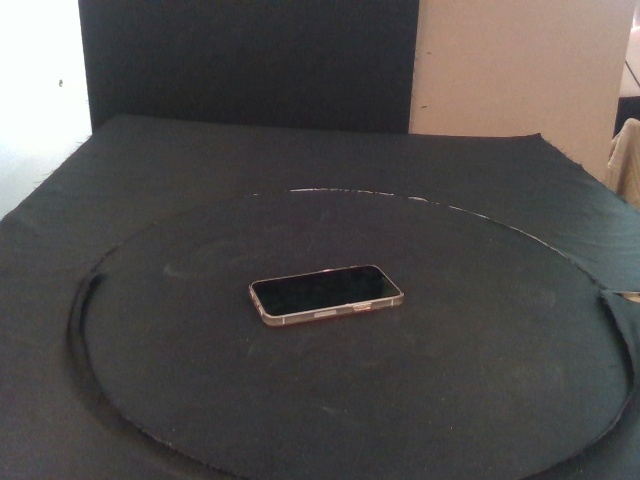phone: (249, 264, 407, 327)
